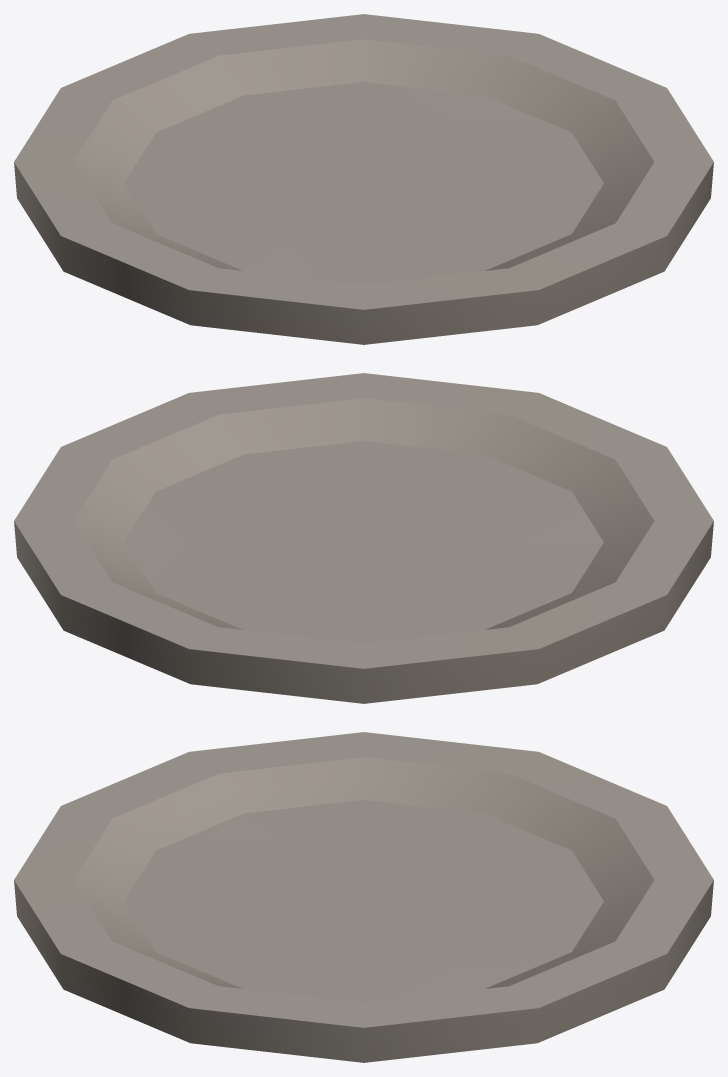
Rendered from plate.glb.
The picture shows the model from 3 angles, top to bottom: view 1: azimuth 30°, elevation 25°; view 2: azimuth 150°, elevation 25°; view 3: azimuth 270°, elevation 25°; orthographic projection.
Visible parts, largest first — view 1: plate; view 2: plate; view 3: plate.
Part boxes in pixels (box(x1,y1,x2,y2)): plate: box(14, 14, 713, 344); plate: box(14, 373, 713, 703); plate: box(14, 732, 713, 1062).
Size of the model in its own units: 0.9706 by 0.1294 by 0.9706.
Materials: 1 (1 with a texture image).
